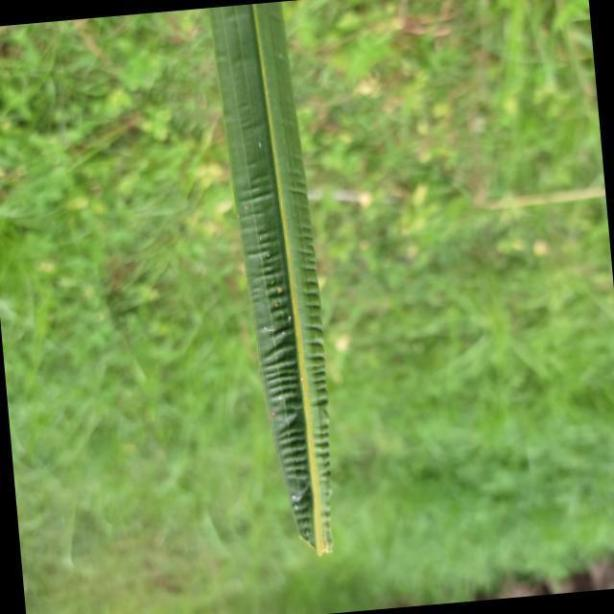Boron: (200, 0, 360, 548)
